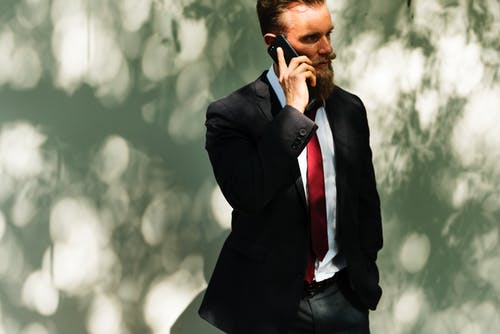phone: (269, 32, 316, 88)
talk: (267, 24, 335, 111)
